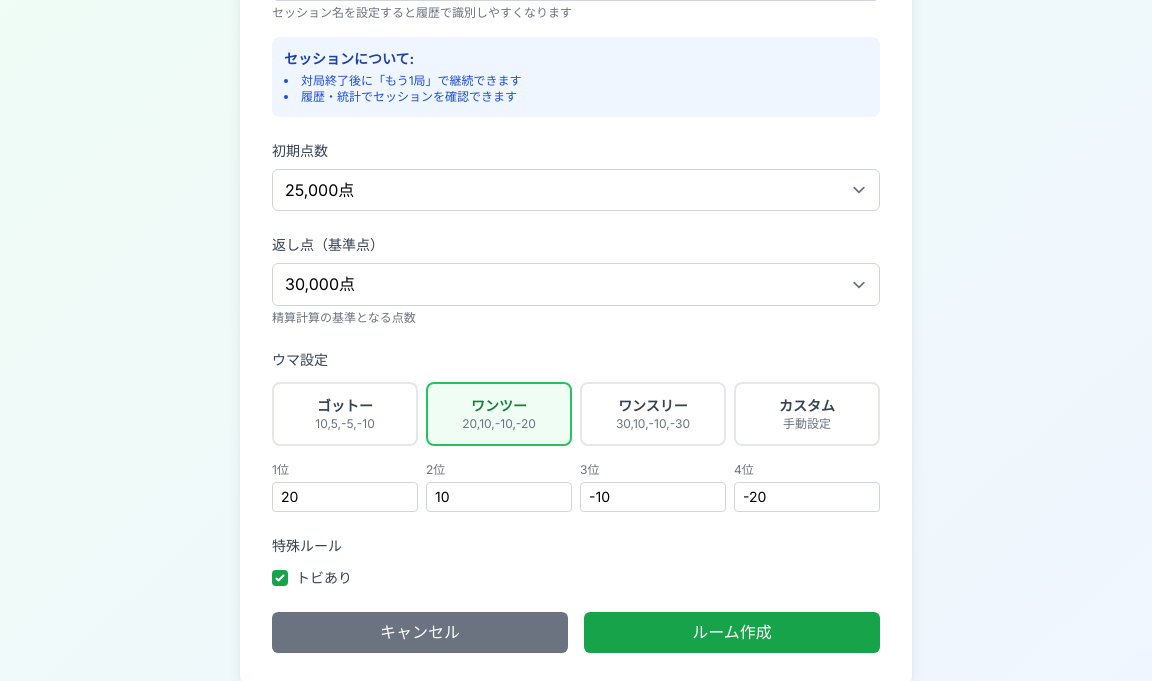
CreateRoomPage › shows error when API fails
(page scrolled)
Click the button "ルーム作成": {"x": 732, "y": 633} [584, 612, 880, 653]
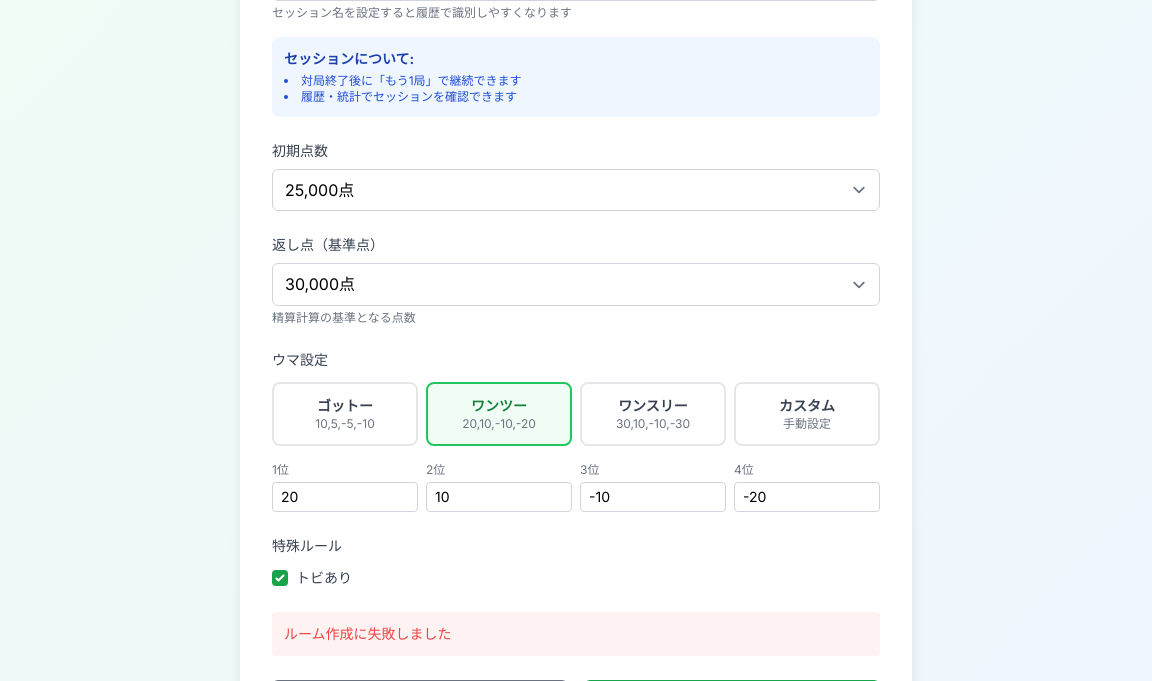
Expected: the text "ルーム作成に失敗しました" is shown, [272, 612, 880, 656]
